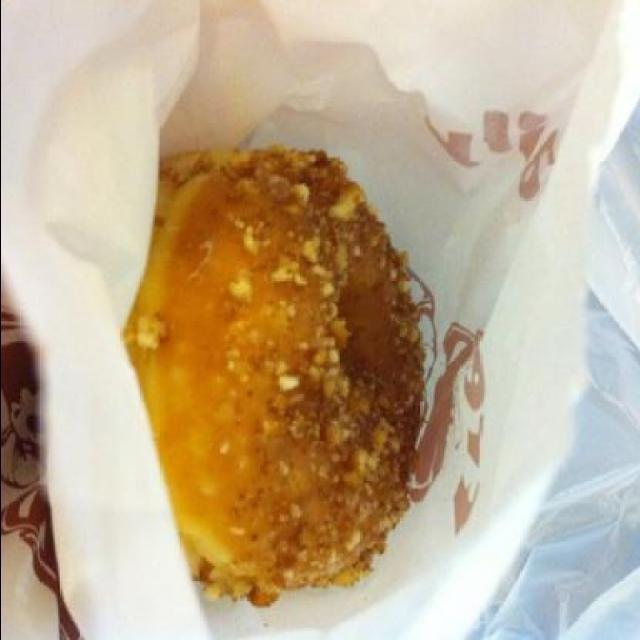Donuts: (88, 126, 440, 626)
